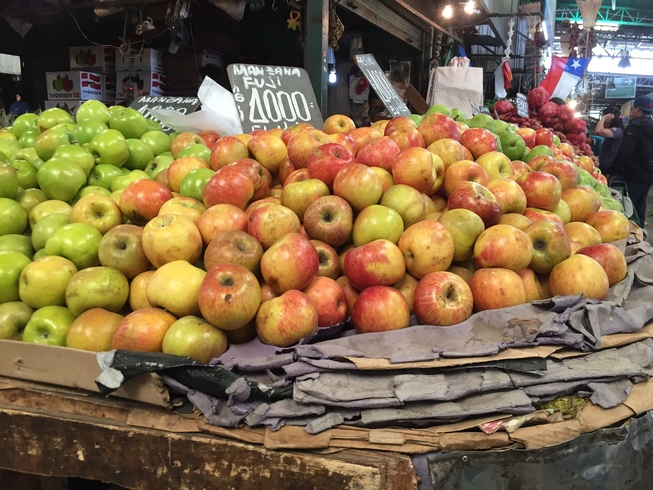precio: (225, 61, 324, 146), (350, 51, 412, 131), (128, 90, 202, 143)
